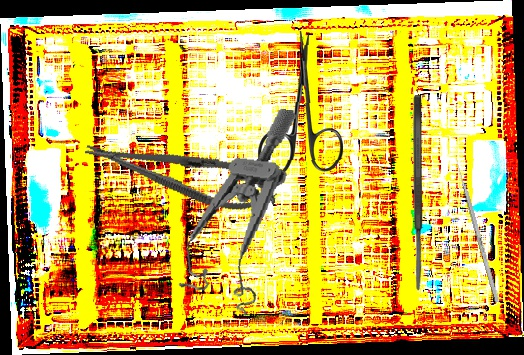Iris Scissors: (257, 30, 345, 175)
Needle Holder: (79, 123, 283, 223)
Pusher: (452, 151, 500, 304)
Spatula Surgical: (412, 95, 423, 291)
Speculum: (175, 97, 298, 319)
